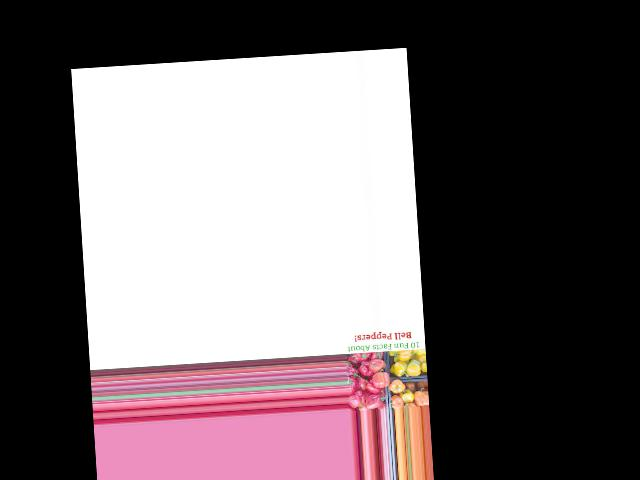bell_pepper: (352, 349, 375, 364)
